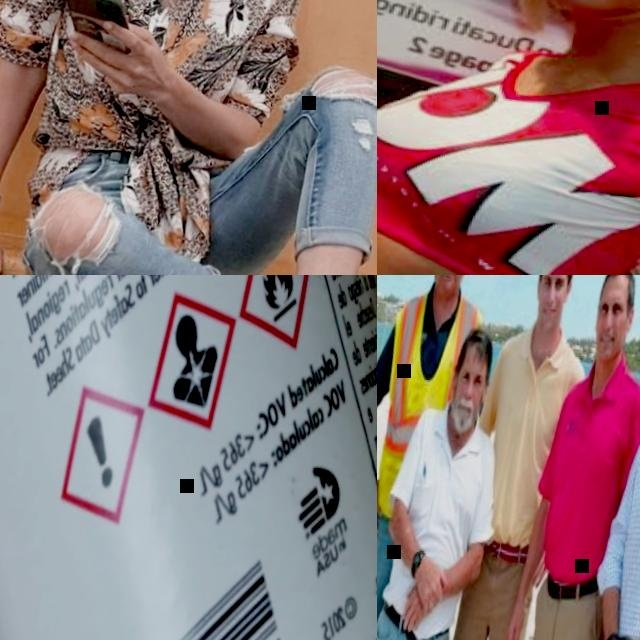NO-Hardhat: (459, 327, 498, 368), (601, 275, 640, 296)
NO-Mask: (591, 332, 624, 370), (536, 300, 562, 333), (430, 275, 462, 301)
NO-Safety Vest: (377, 0, 640, 275), (28, 0, 282, 176), (380, 407, 497, 640), (537, 367, 640, 592), (475, 336, 578, 553), (612, 423, 640, 640)
Person: (0, 0, 377, 275), (377, 0, 640, 275), (436, 275, 609, 640), (505, 275, 640, 640), (377, 314, 526, 640), (377, 275, 506, 640), (582, 293, 640, 640)
Safety Vest: (377, 284, 484, 521)
